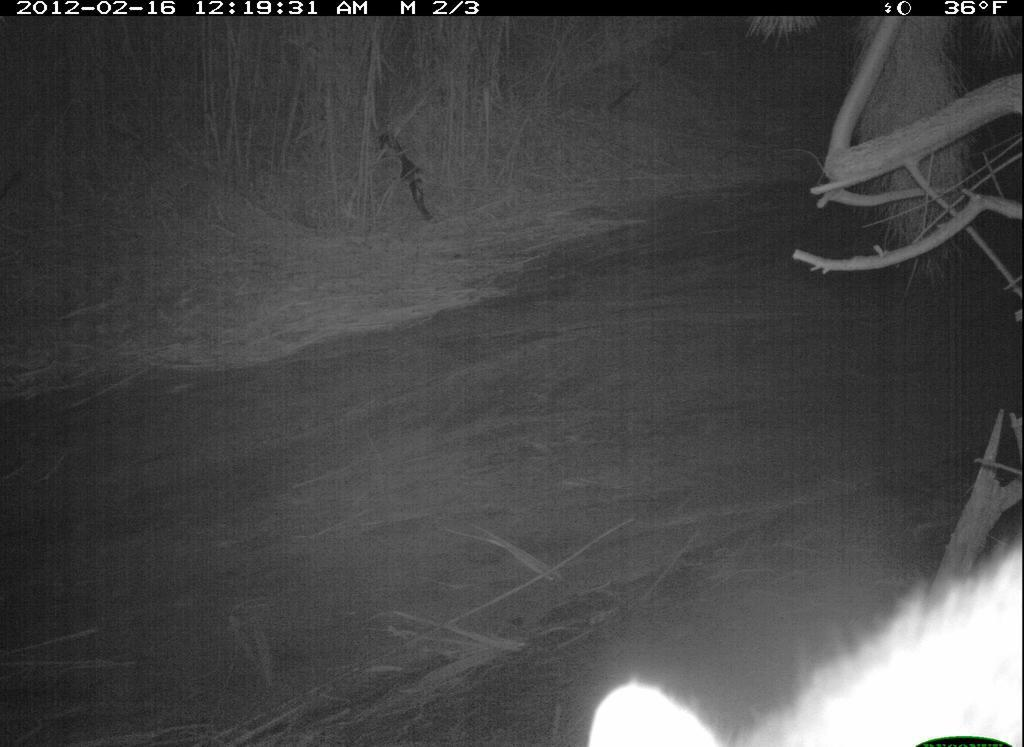raccoon: (575, 523, 1022, 747)
